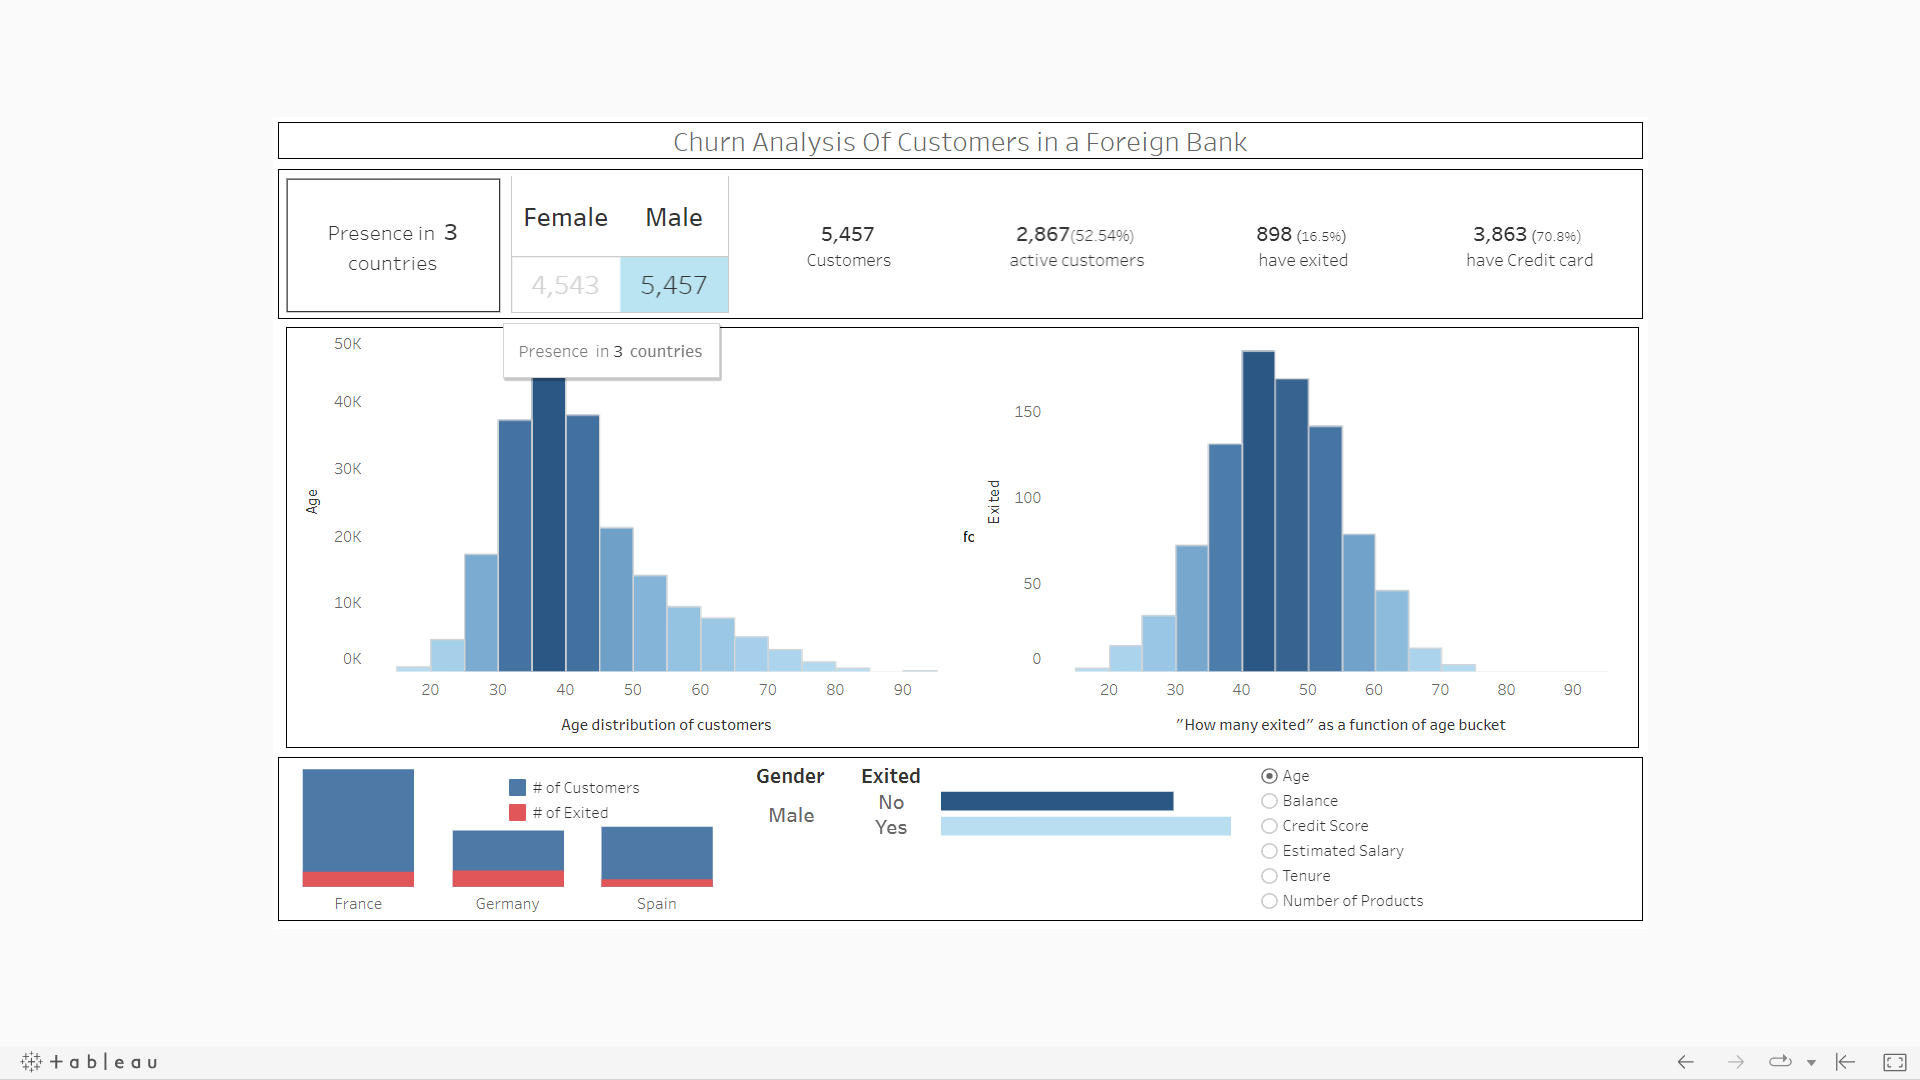

This screenshot's page, from the dashboard's own definition file:
{"tool":"tableau","page":{"name":"Dashboard 1","canvas":[1100,650],"ordinal":0},"visuals":[{"type":"text","box":[0,0,1100,38]},{"type":"worksheet","title":"# of countries","mark":"Automatic","box":[5,43,182,118]},{"type":"worksheet","title":"Gender","mark":"Automatic","cols":["Gender"],"box":[187,43,182,118]},{"type":"worksheet","title":"Customers","mark":"Automatic","box":[369,43,182,118]},{"type":"worksheet","title":"Active customers","mark":"Automatic","box":[551,43,182,118]},{"type":"worksheet","title":"exited  customers ","mark":"Automatic","box":[733,43,181,118]},{"type":"worksheet","title":"Credit card","mark":"Automatic","box":[914,43,181,118]},{"type":"worksheet","title":"Age wise","mark":"Automatic","rows":["Age"],"cols":["Age (bin)"],"box":[12,169,545,335]},{"type":"worksheet","title":"Exited vs age","mark":"Automatic","rows":["Exited"],"cols":["Age (bin)"],"box":[557,169,535,335]},{"type":"worksheet","box":[0,325,1100,325]},{"type":"worksheet","title":"Exited country wise","mark":"Bar","rows":["ChurnAnalysisData_51BE9C0CF510447EA886F9E47D882F68","Exited"],"cols":["Geography"],"box":[5,513,366,129]},{"type":"worksheet","title":"Gender wise exited","mark":"Automatic","rows":["Gender","Exited"],"cols":["Calculation_878201944899014657"],"box":[371,513,412,129]},{"type":"parameter","param":"[Parameters].[Parameter 1]","box":[783,513,312,129]},{"type":"legend","title":"Exited country wise","param":"[federated.0fxd9ov0lvobej0zmb3kq00man53].[:Measure Names]","box":[186,527,193,58]}]}

Visuals, with their boxes on the page's 1100x650 design canvas (x1, y1, x2, y2). These are canvas units, not pixel positions in the 1920x1080 screenshot, which may show the page scaled, cropped or inside an application window:
text: box=[0, 0, 1100, 38]
"# of countries" worksheet: box=[5, 43, 187, 161]
"Gender" worksheet: box=[187, 43, 369, 161]
"Customers" worksheet: box=[369, 43, 551, 161]
"Active customers" worksheet: box=[551, 43, 733, 161]
"exited  customers " worksheet: box=[733, 43, 914, 161]
"Credit card" worksheet: box=[914, 43, 1095, 161]
"Age wise" worksheet: box=[12, 169, 557, 504]
"Exited vs age" worksheet: box=[557, 169, 1092, 504]
worksheet: box=[0, 325, 1100, 650]
"Exited country wise" worksheet (Bar marks): box=[5, 513, 371, 642]
"Gender wise exited" worksheet: box=[371, 513, 783, 642]
parameter: box=[783, 513, 1095, 642]
"Exited country wise" legend: box=[186, 527, 379, 585]
